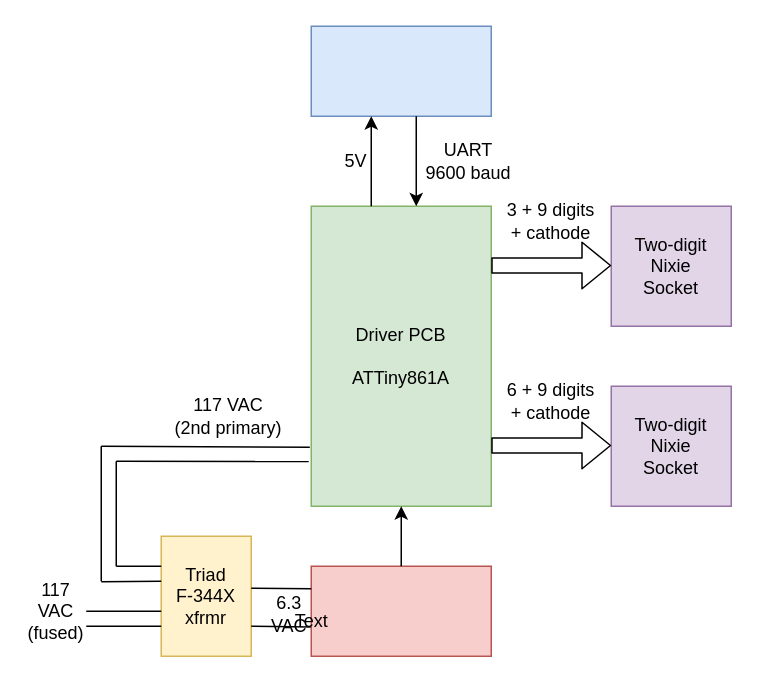
Image size: 758x683. Some labels were removed from this diagram. Here are the shapes that lost their labels. From the top down, the box of each, then its label:
(310, 25, 491, 116): ESP8266 D1 Mini
(310, 565, 491, 656): 5V power supply
